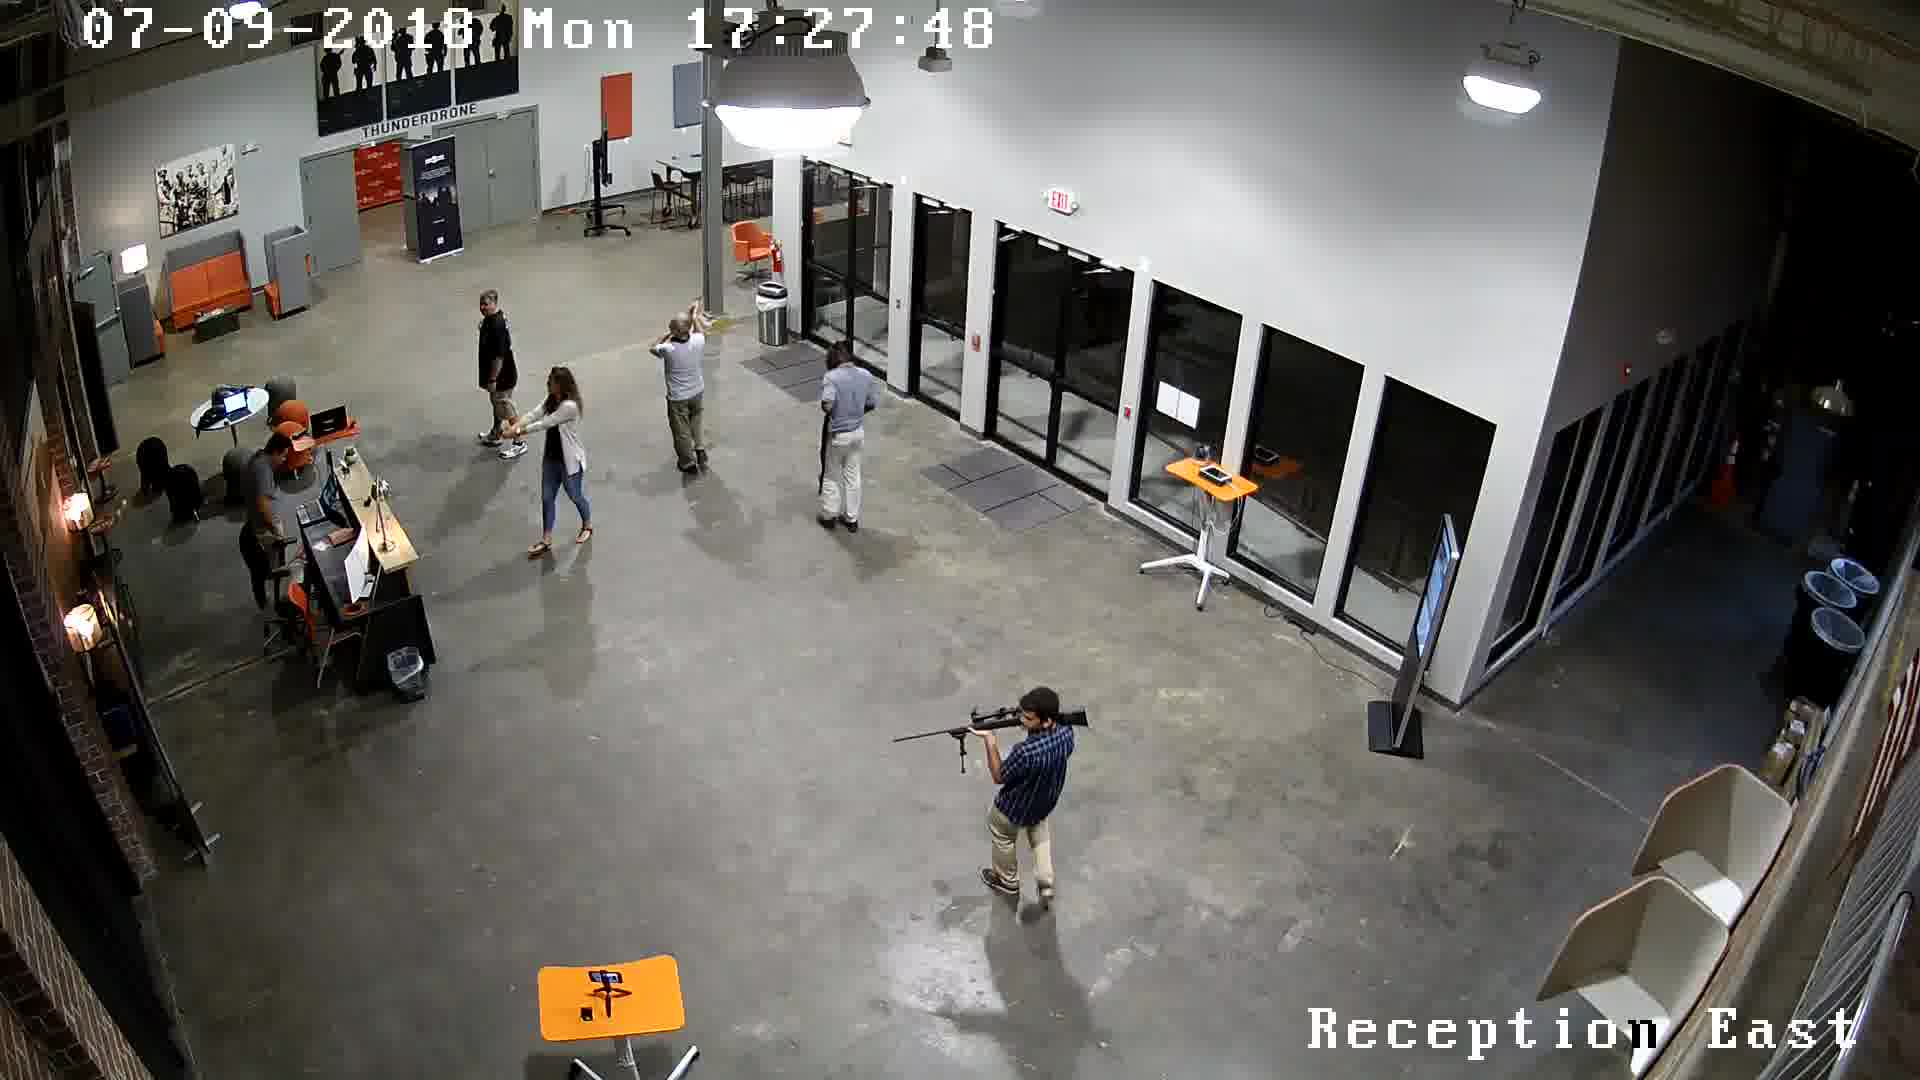pistol: (485, 419, 521, 450)
